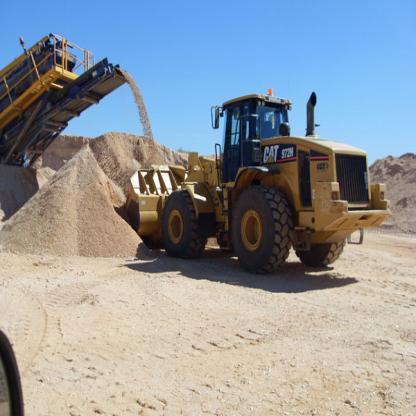bull_dozer/loader/grader: (119, 82, 397, 278)
